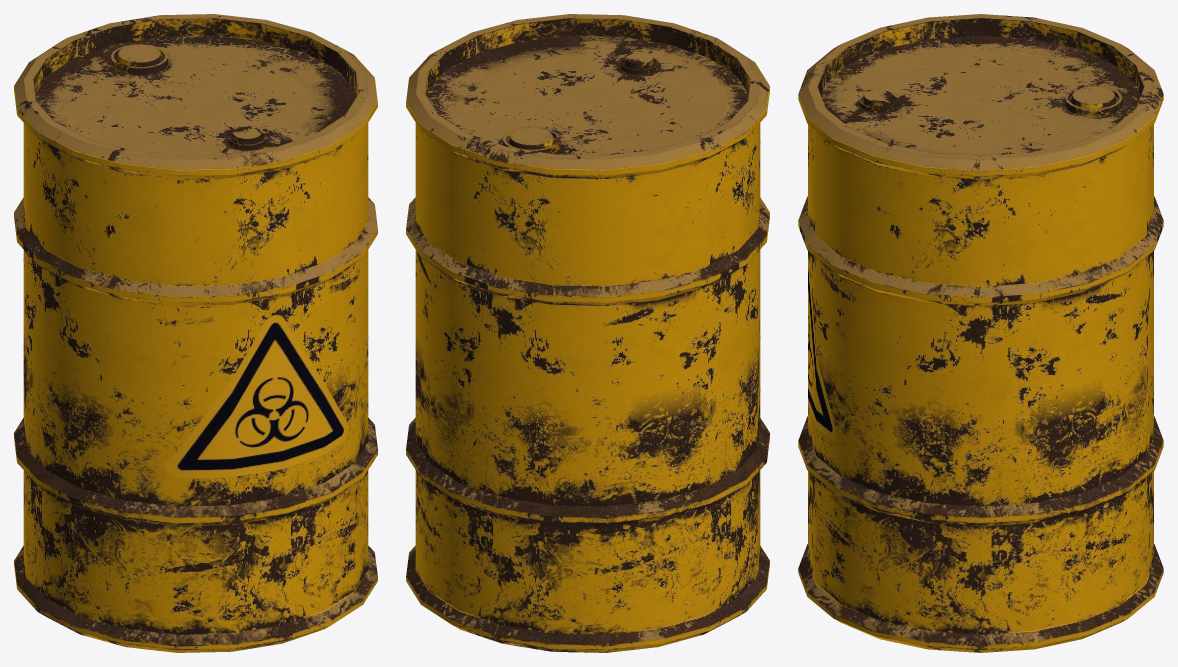
File: BARREL.glb
3 views of the same model, side by side, from view 1: azimuth 30°, elevation 25°; view 2: azimuth 150°, elevation 25°; view 3: azimuth 270°, elevation 25° (orthographic).
Visible parts, largest first — view 1: barrel; view 2: barrel; view 3: barrel.
Part boxes in pixels (box(x1,y1,x2,y2)): barrel: box(14, 14, 377, 652); barrel: box(406, 14, 769, 652); barrel: box(798, 14, 1163, 652).
Size of the model in its own units: 3.78 by 5.63 by 3.78.
Materials: 1 (1 with a texture image).
